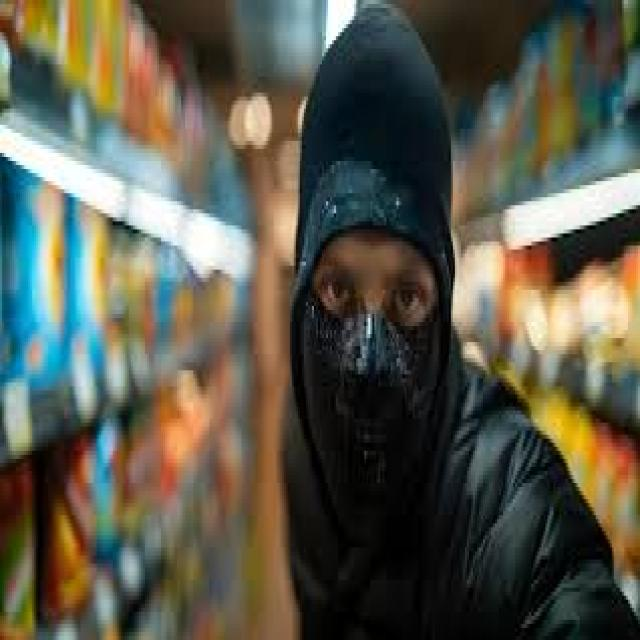27: (290, 144, 455, 636)
39: (288, 6, 457, 626)
6: (2, 0, 634, 639), (277, 10, 623, 639)
handguns: (284, 29, 623, 639), (513, 0, 599, 188), (585, 0, 626, 129)
